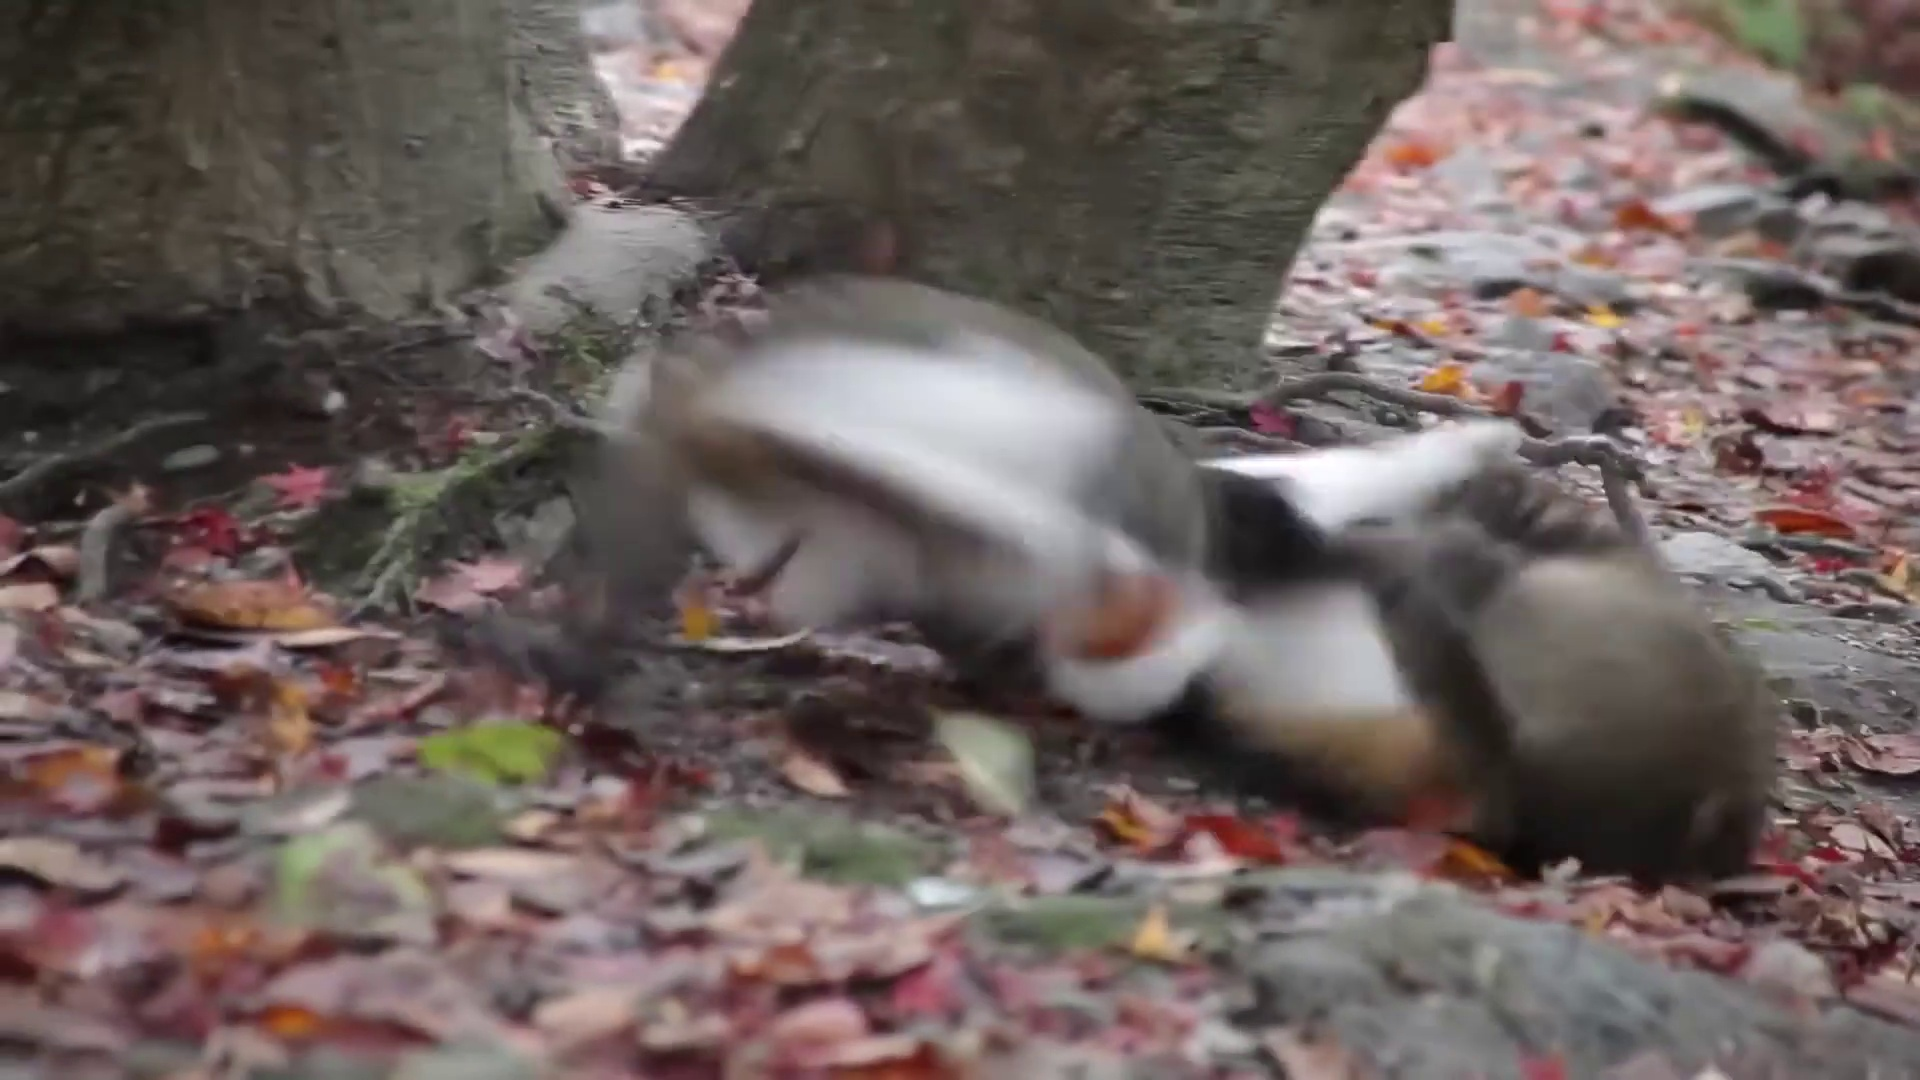black-white: (658, 272, 1520, 707)
pure black: (1356, 452, 1774, 857)
